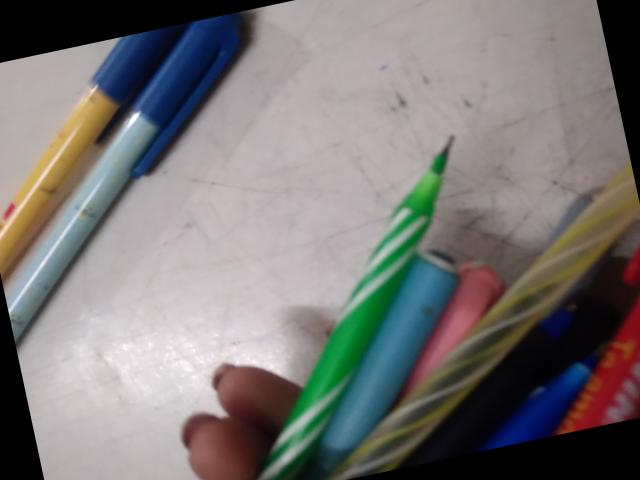PEN: (0, 9, 314, 366), (225, 104, 485, 480)
